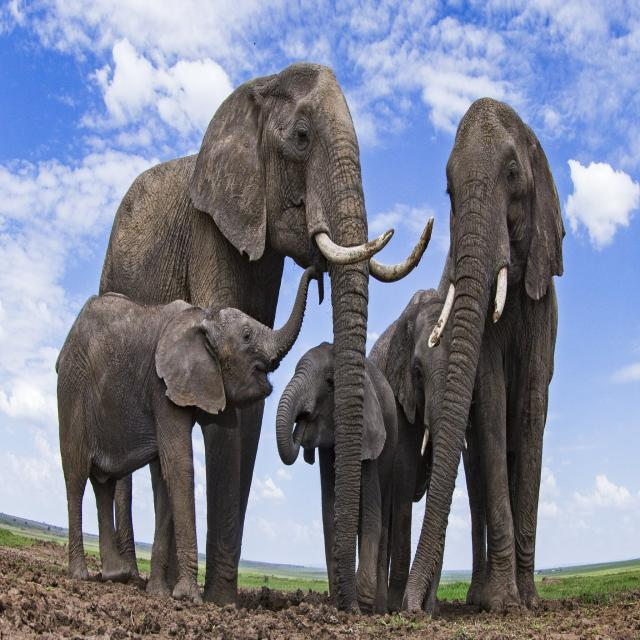Elephant: (97, 61, 433, 606), (54, 265, 320, 607), (401, 96, 566, 617), (275, 341, 399, 616)
